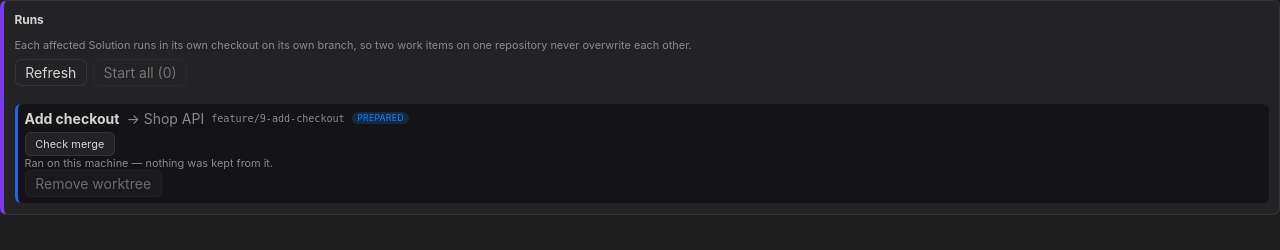
Test case: RunsPanel › says there is nothing to merge when the branch has no commits
Click the button with aria-label "Check merge for Add checkout on Shop API" at (70, 144), box x1=24 y1=132 x2=115 y2=156
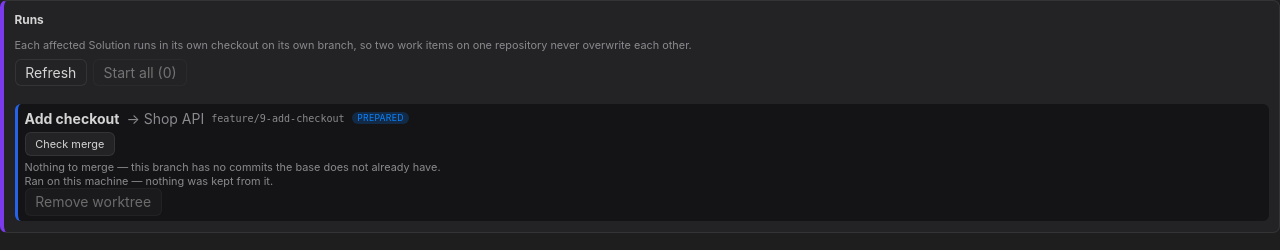
Expected: the text "Nothing to merge" is shown, x1=24 y1=160 x2=440 y2=174
